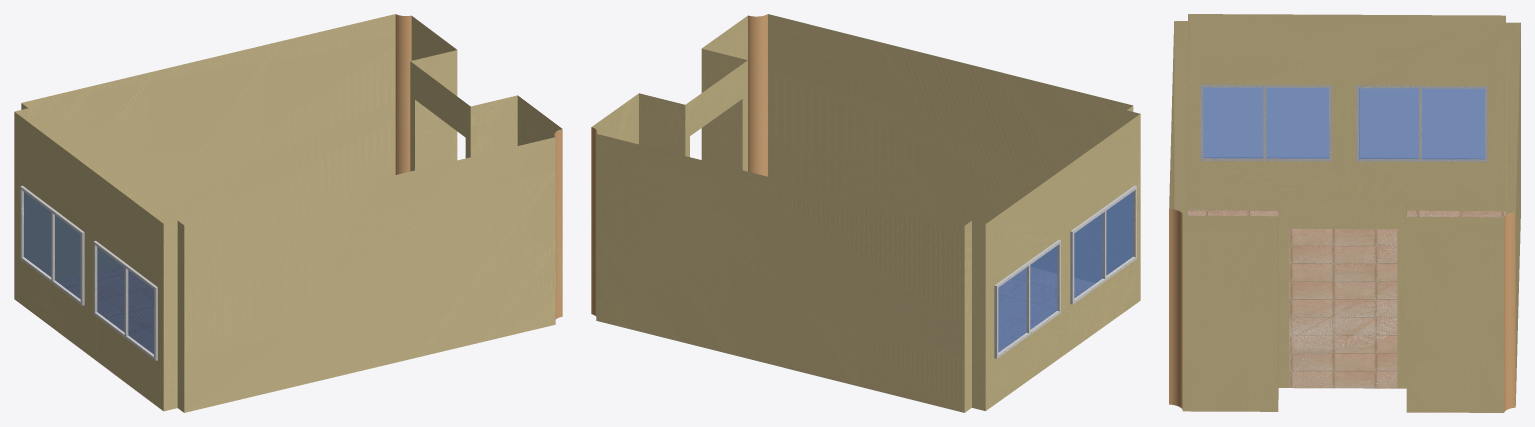
Rendered from DES021.obj.
3 views of the same model, side by side, from view 1: azimuth 30°, elevation 25°; view 2: azimuth 150°, elevation 25°; view 3: azimuth 270°, elevation 25° (orthographic). The views are drawn at different scales.
Parts seen in each view (by area): view 1: Mesh11 DES021 Model, Mesh6 ventana2_2 DES021 Model, Mesh1 ventana2_1 DES021 Model; view 2: Mesh11 DES021 Model, Mesh6 ventana2_2 DES021 Model, Mesh1 ventana2_1 DES021 Model; view 3: Mesh11 DES021 Model, Mesh1 ventana2_1 DES021 Model, Mesh6 ventana2_2 DES021 Model.
Part boxes in pixels (x1,y1,x2,y2): Mesh11 DES021 Model: [14, 14, 562, 412]; Mesh6 ventana2_2 DES021 Model: [20, 185, 84, 305]; Mesh1 ventana2_1 DES021 Model: [93, 241, 157, 360]; Mesh11 DES021 Model: [591, 14, 1140, 412]; Mesh6 ventana2_2 DES021 Model: [994, 239, 1060, 358]; Mesh1 ventana2_1 DES021 Model: [1070, 185, 1136, 304]; Mesh11 DES021 Model: [1169, 14, 1520, 412]; Mesh1 ventana2_1 DES021 Model: [1200, 84, 1331, 161]; Mesh6 ventana2_2 DES021 Model: [1356, 85, 1487, 162].
Size of the model in its own units: 8.07 by 3.6 by 5.86.
9 materials, 2 textured.
